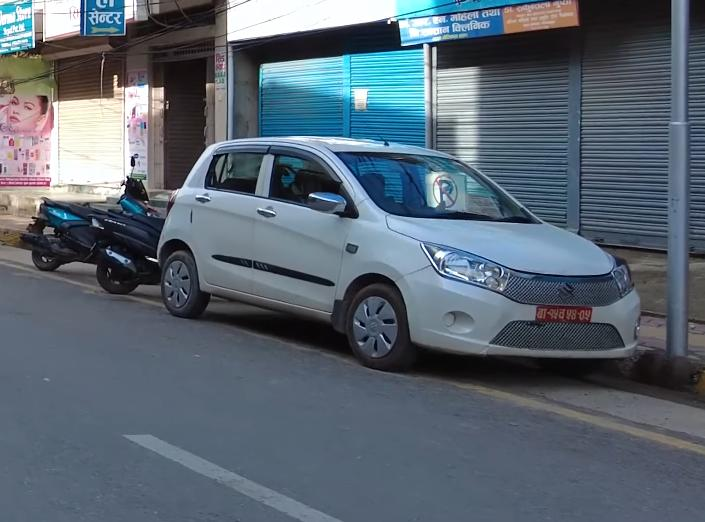car: (151, 130, 650, 380)
scooter: (32, 172, 157, 271), (87, 204, 176, 298)
